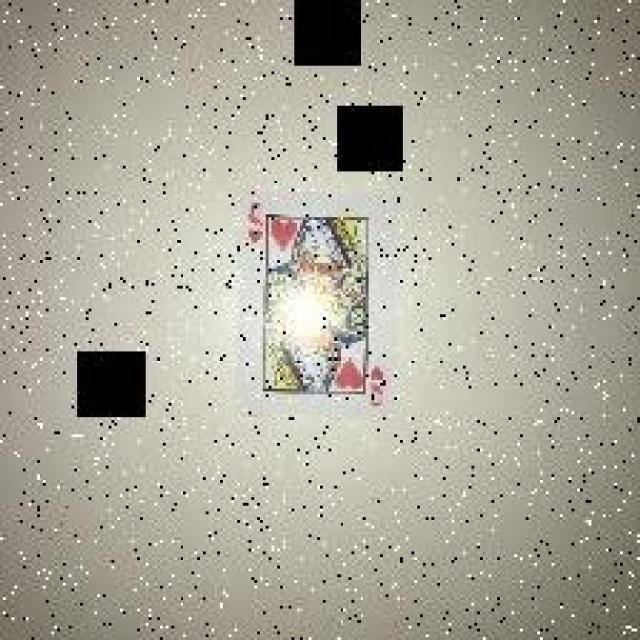Queen of hearts: (245, 198, 401, 415)
